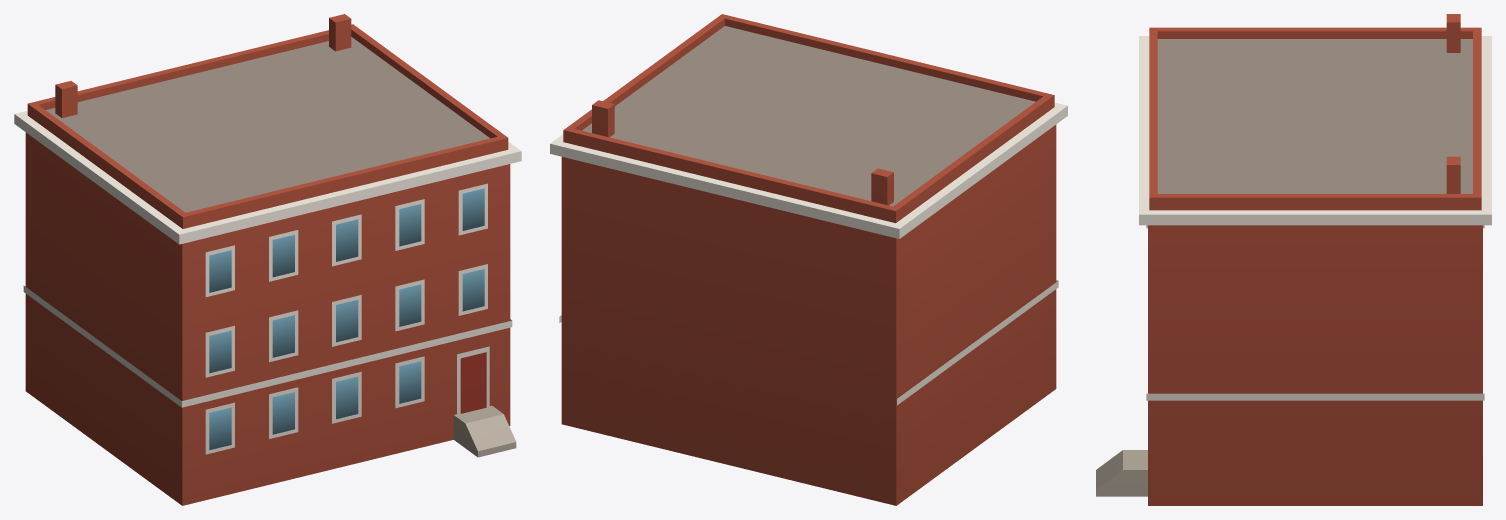
Rendered from beacon_se1_far.glb.
3 renders of one model, left to right at view 1: azimuth 30°, elevation 25°; view 2: azimuth 150°, elevation 25°; view 3: azimuth 270°, elevation 25°, orthographic. The views are drawn at different scales.
Parts seen in each view (by area): view 1: beacon_se1_far; view 2: beacon_se1_far; view 3: beacon_se1_far.
Boxes of the visible parts, <box> form: beacon_se1_far: <box>14,14,521,505</box>; beacon_se1_far: <box>550,14,1067,505</box>; beacon_se1_far: <box>1096,14,1491,505</box>.
Size of the model in its own units: 15.14 by 13.09 by 14.18.
Materials: 1 (1 with a texture image).
